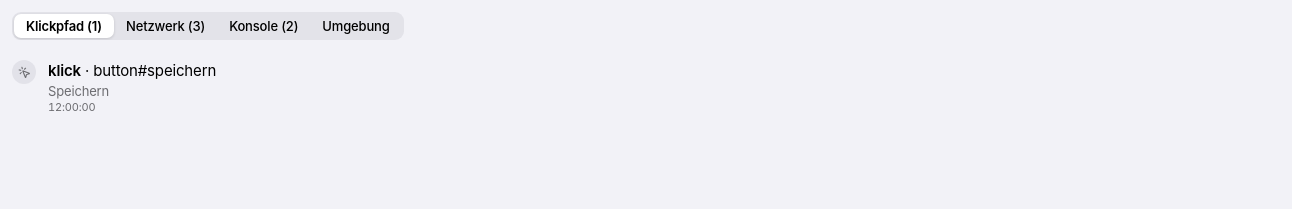
Scenario: KontextTabs › färbt error/warn in der Konsole und klappt den Stack auf
Step 1. Click the button "Konsole (2)" → coordinates (264, 26), box [217,14,310,38]
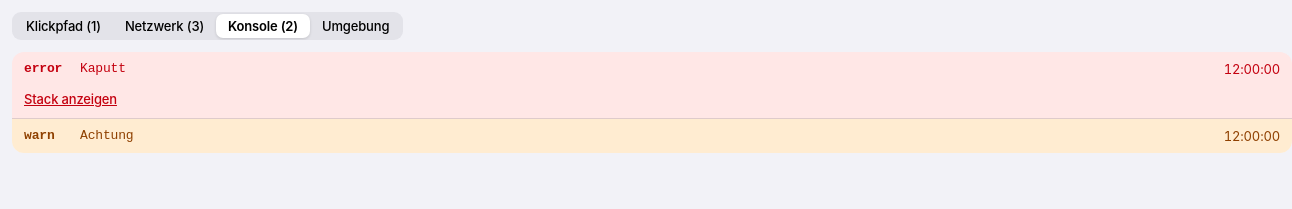
Step 2. Click the button "Stack anzeigen" → coordinates (70, 99), box [24,90,117,108]
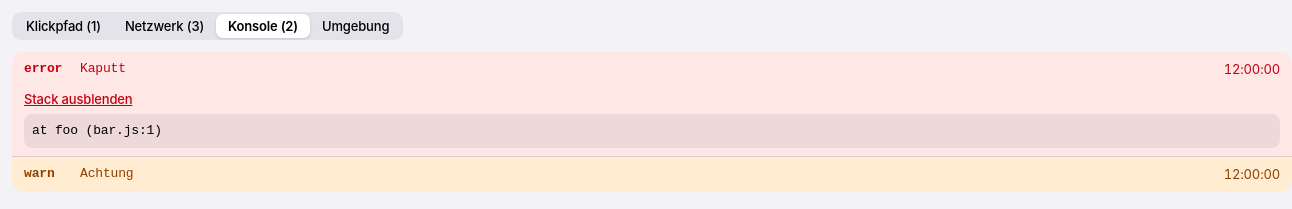
Expected: the text "at foo (bar.js:1)" is shown, [24,114,1280,148]
